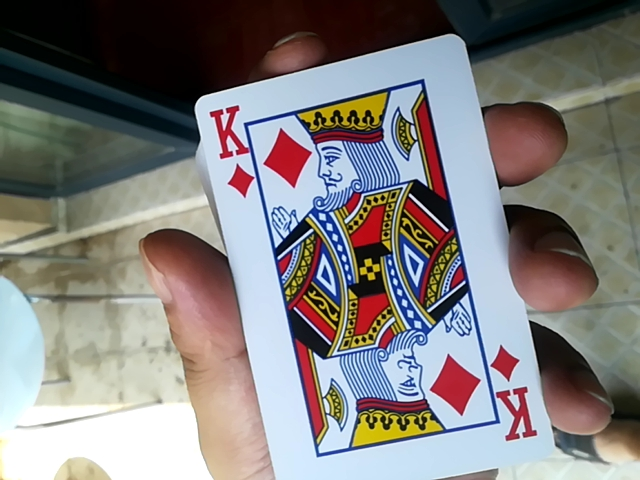fk k: (198, 39, 541, 479)
